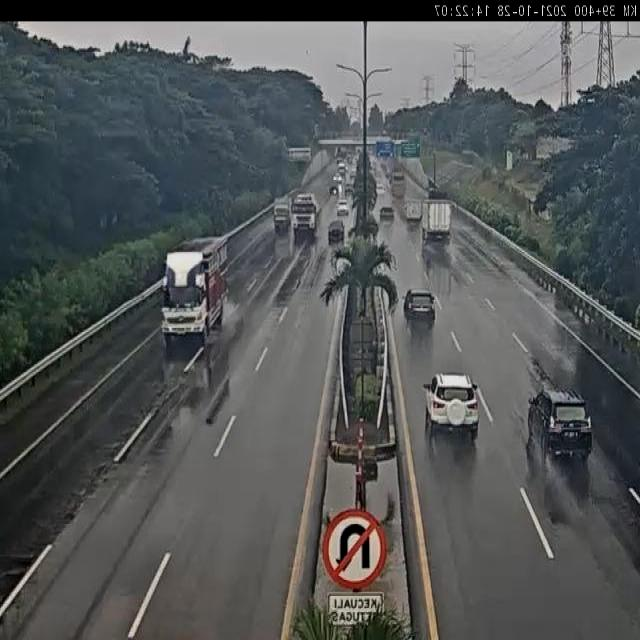Car: (529, 382, 599, 468), (420, 376, 485, 442), (402, 290, 437, 339), (327, 219, 345, 243), (376, 204, 395, 225), (404, 202, 421, 225), (335, 201, 350, 219), (331, 180, 344, 195), (375, 184, 387, 196), (334, 170, 344, 183)
Truck: (155, 231, 230, 357), (422, 198, 456, 248), (292, 190, 318, 241), (272, 201, 289, 234), (393, 169, 406, 199)
